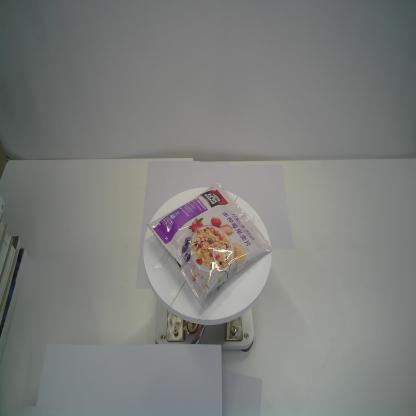Instant Drink: (147, 181, 273, 306)
